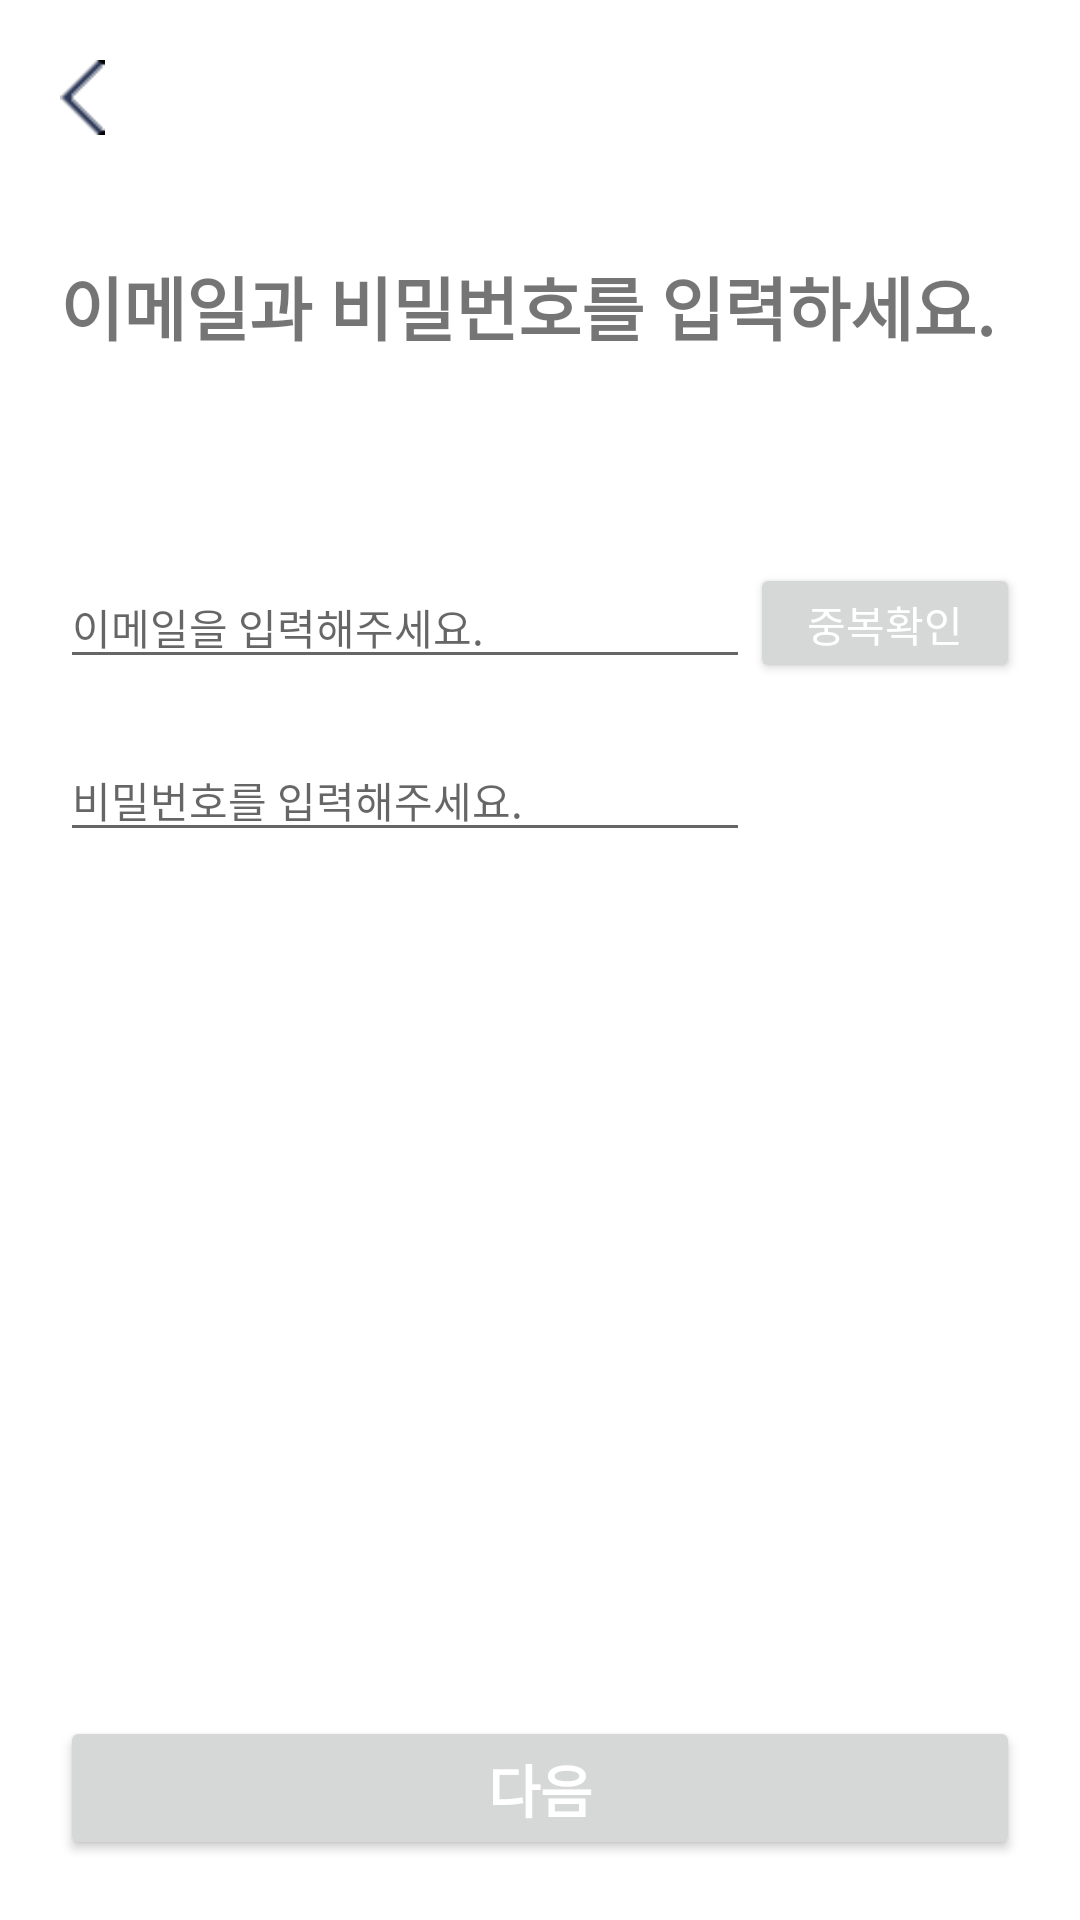

Where to tap for icons on this 1080×1920 app screen, as (x,y):
backarrow: (82,97)
